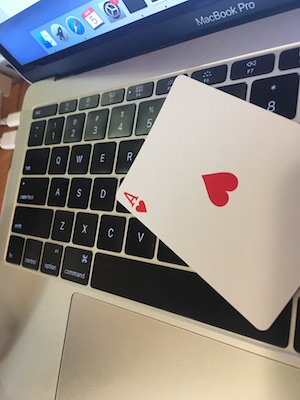AceOfHearts: (101, 72, 298, 331)
